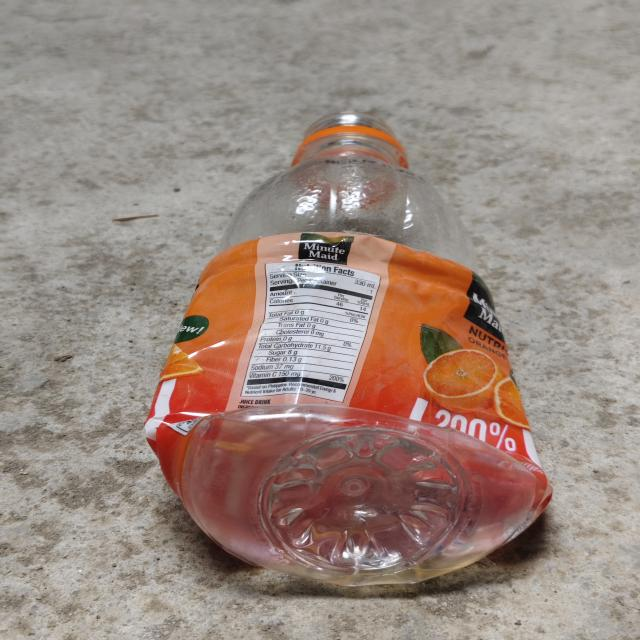Bottle: (144, 111, 552, 587)
